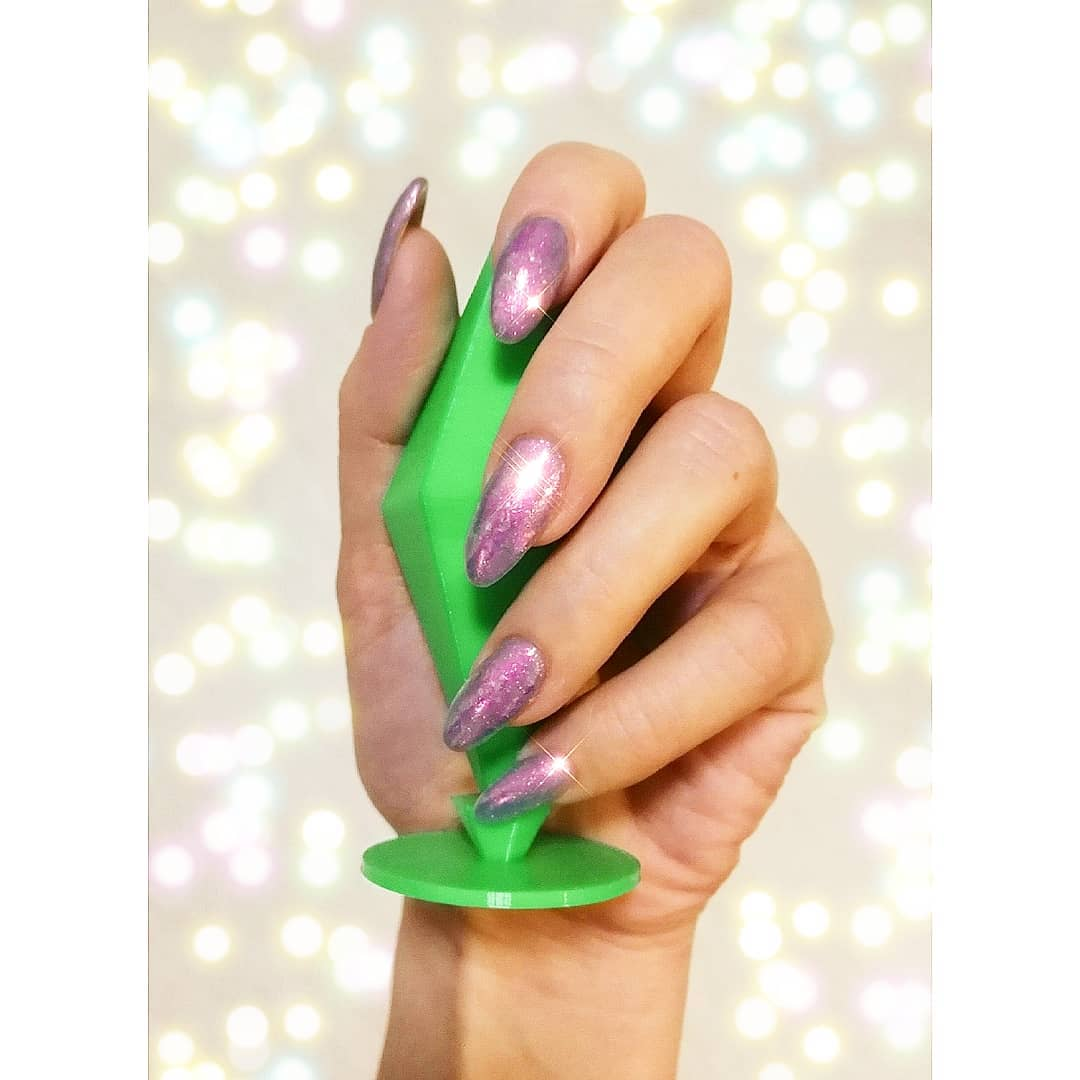hand: (360, 171, 797, 961)
